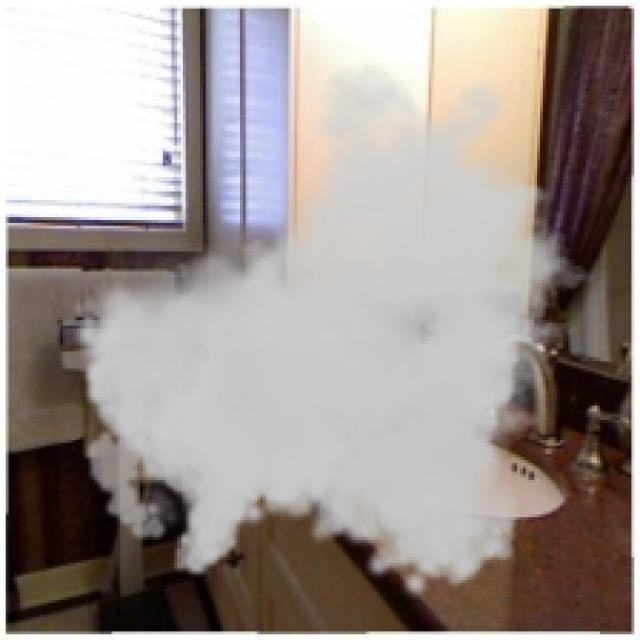Smoke: (71, 60, 612, 600)
